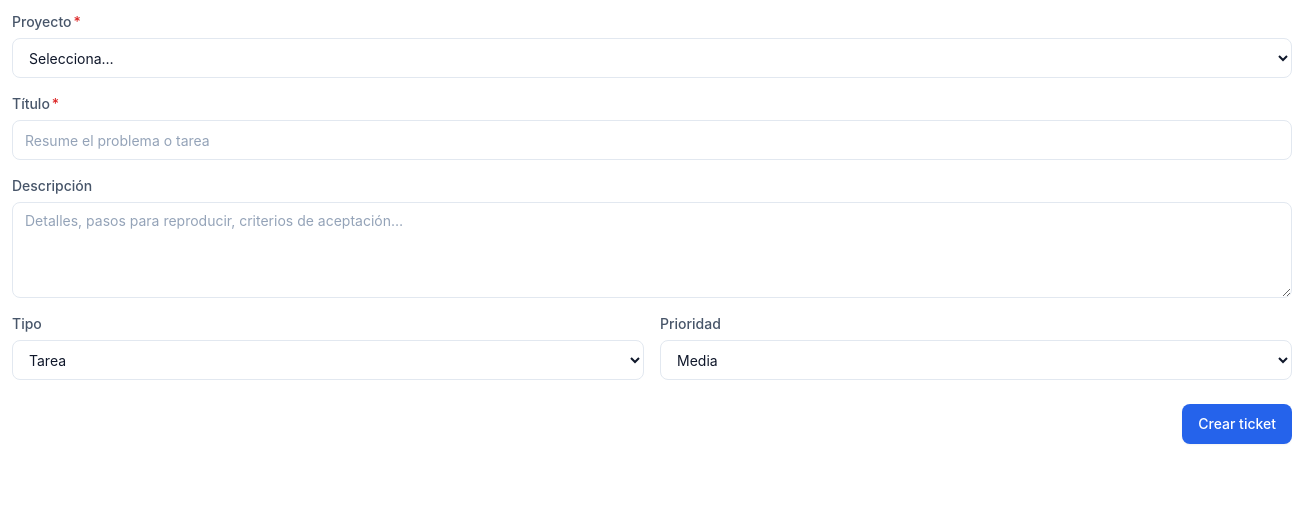
TicketForm › valida campos obligatorios y muestra errores
Expected: the field labelled "Título*" is shown, [12, 120, 1292, 160]
Click the button "Crear ticket" at (1237, 424), box [1182, 404, 1292, 444]
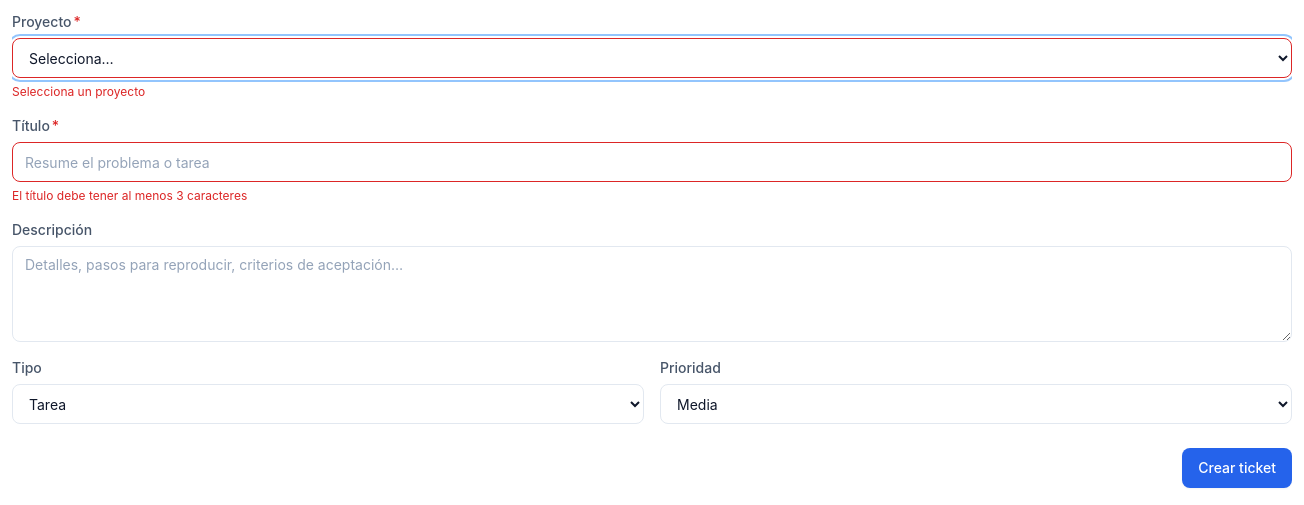
Result: the text "Selecciona un proyecto" is shown at [12, 84, 145, 99]
Result: the text "El título debe tener al menos 3 caracteres" is shown at [12, 188, 247, 203]
